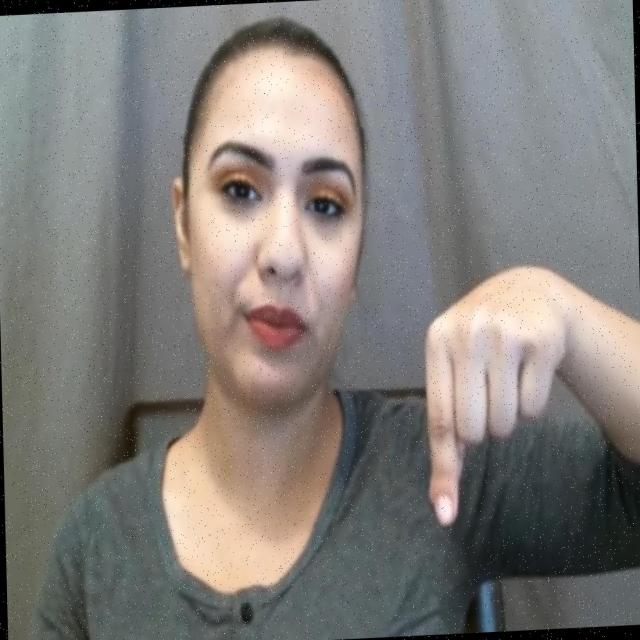Q: (420, 260, 576, 529)
